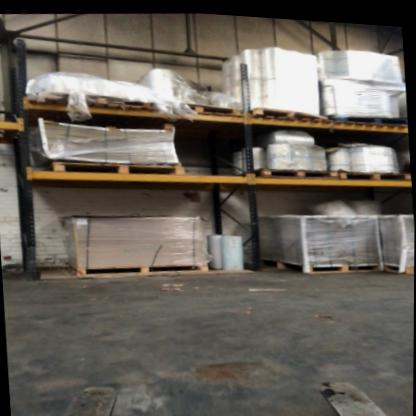vertical_damage: (25, 236, 43, 259)
